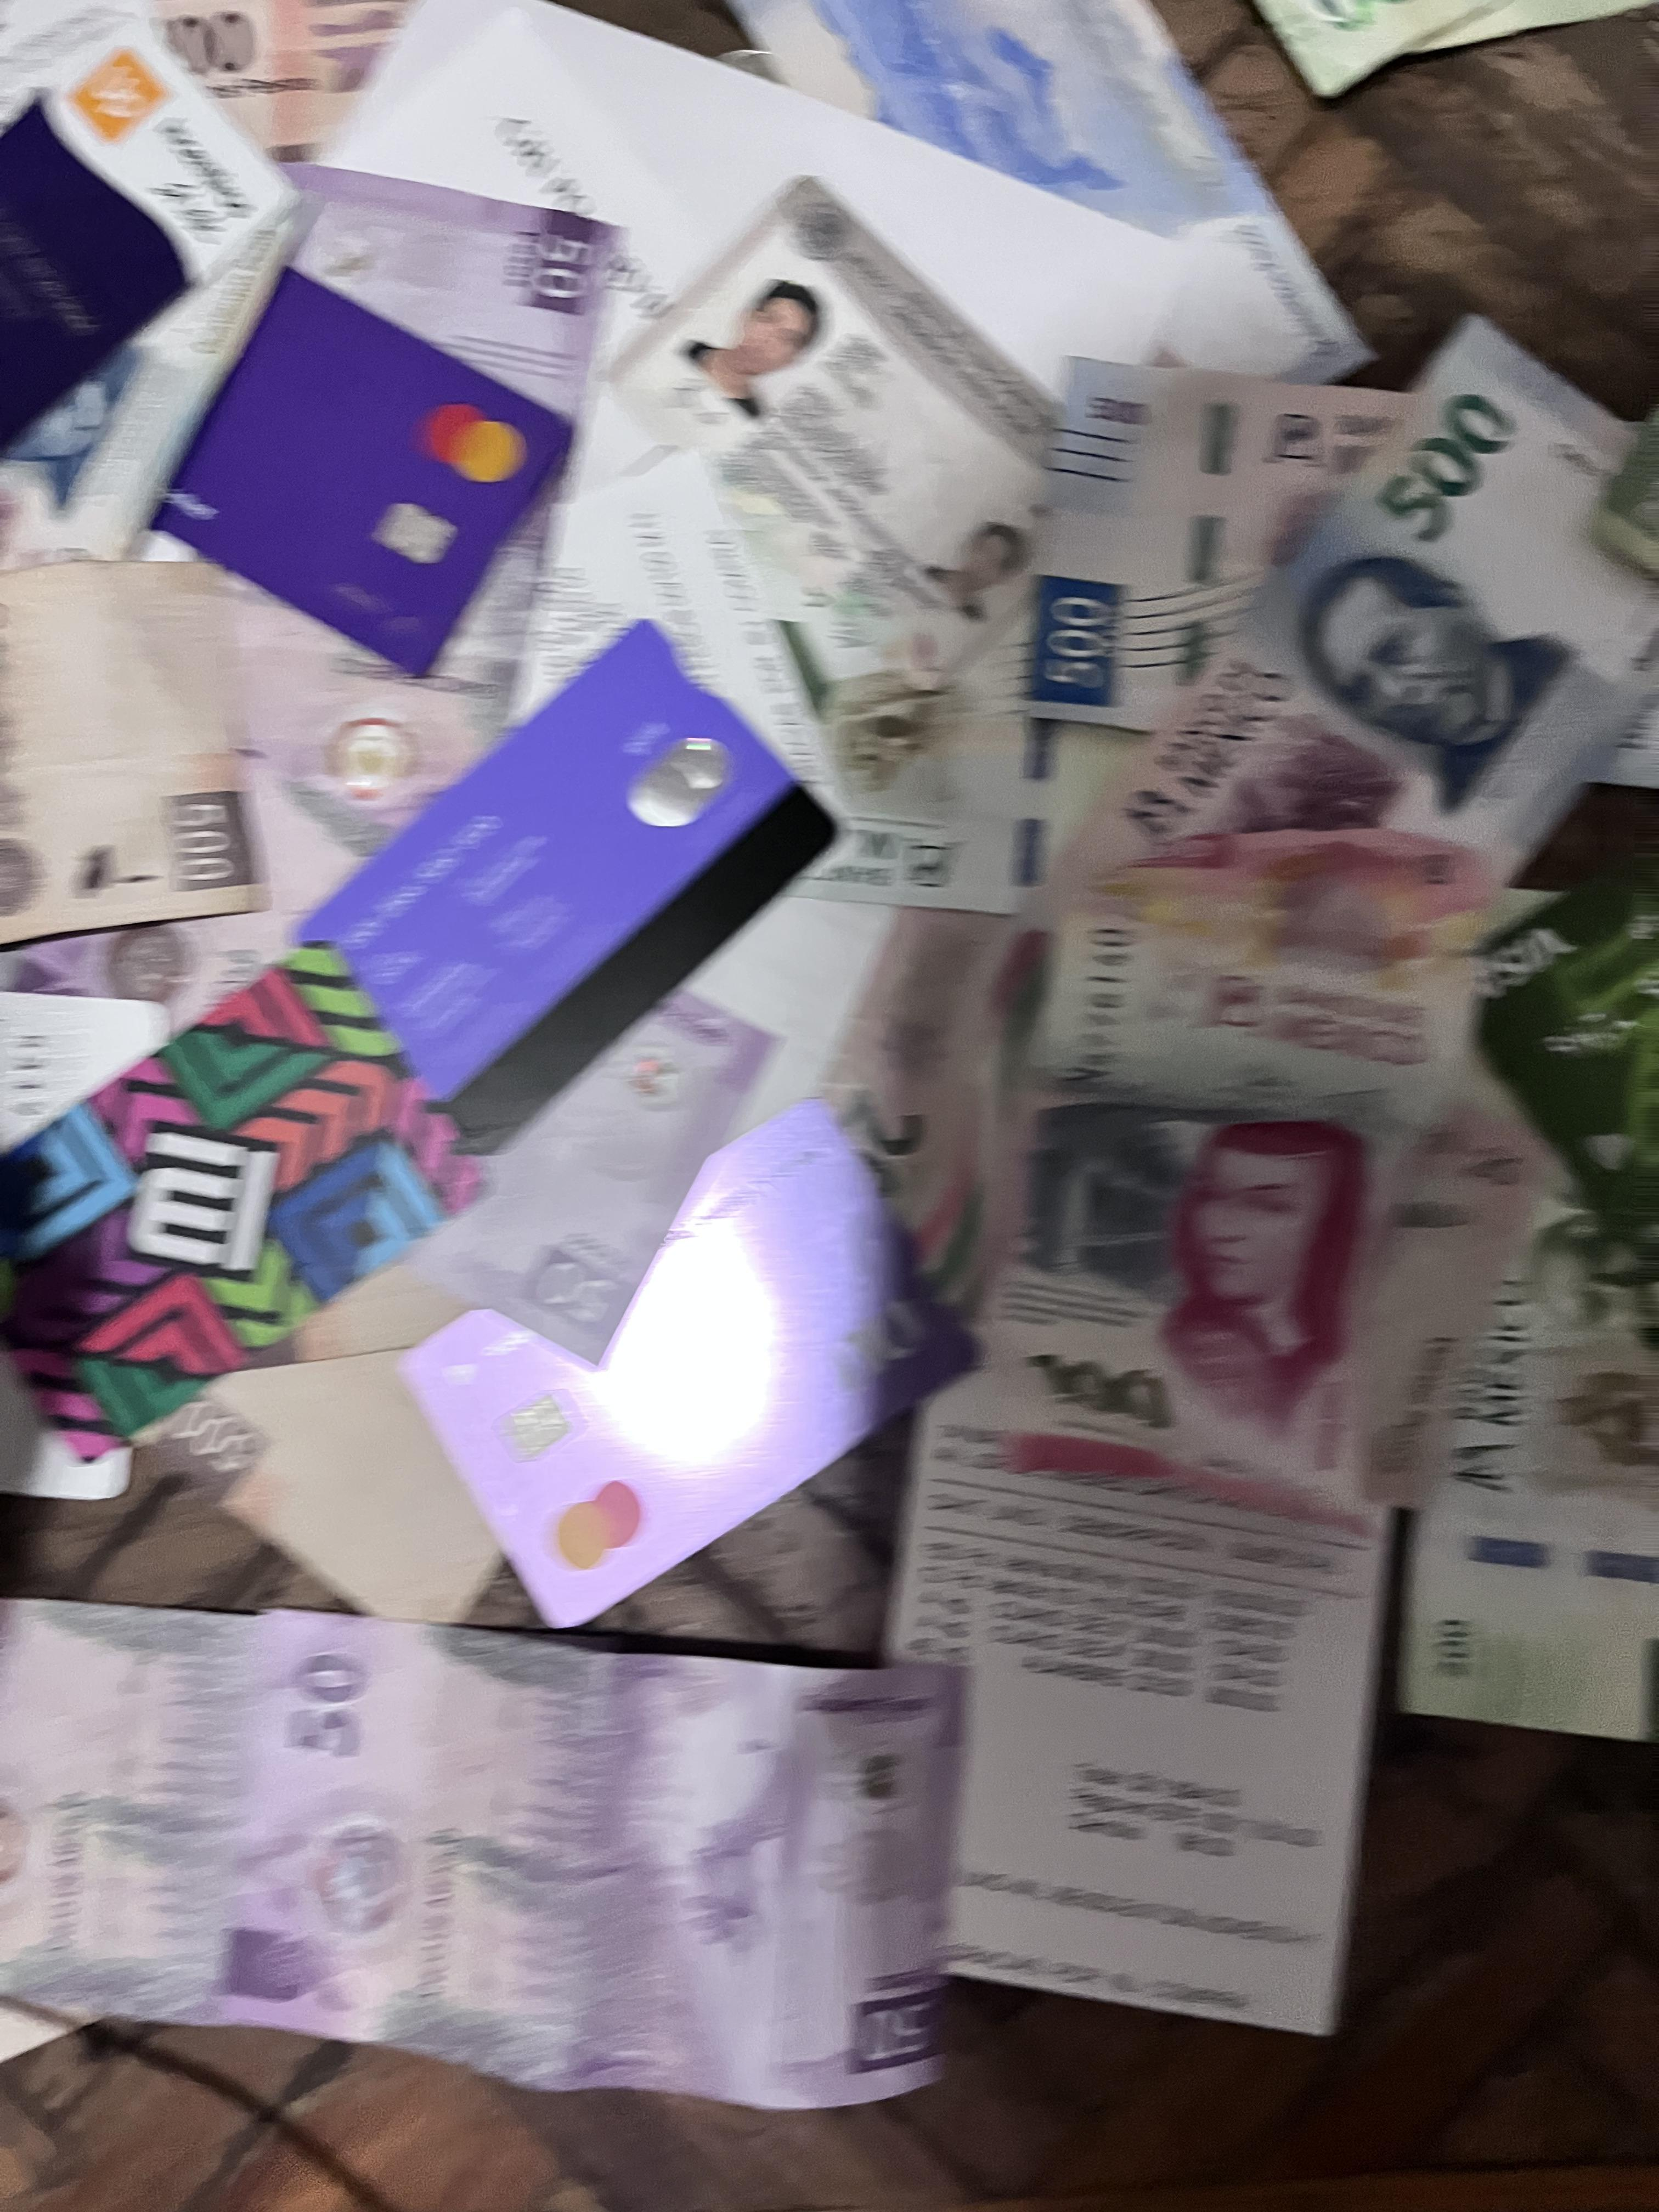100: (1004, 820, 1431, 1564)
20: (782, 897, 1091, 1364)
200: (1338, 897, 1659, 1721)
50: (223, 1632, 1000, 2177), (254, 157, 592, 864), (310, 963, 756, 1378)
500: (119, 1268, 655, 1656), (0, 545, 249, 998)
500 nuevo: (1161, 319, 1659, 930), (1021, 354, 1659, 787), (714, 0, 1366, 397)
